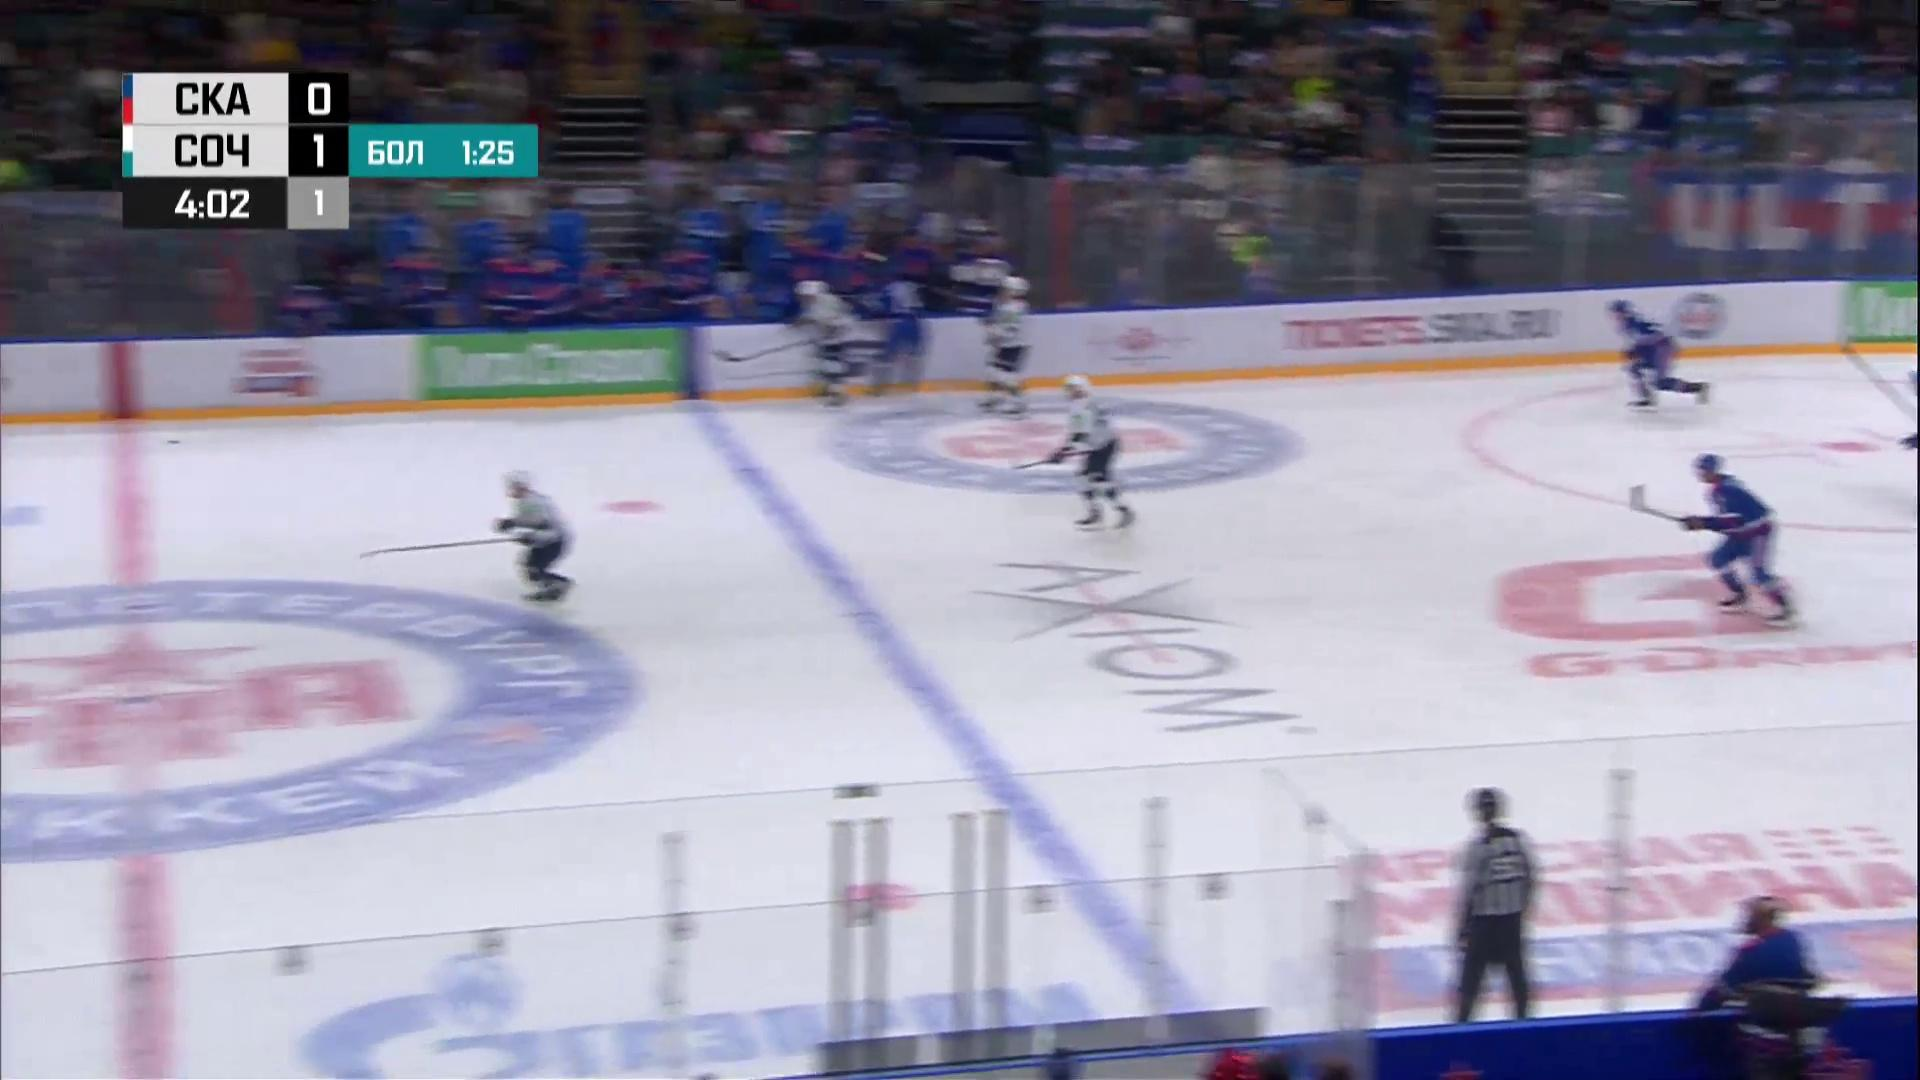ball: (167, 440, 181, 444)
